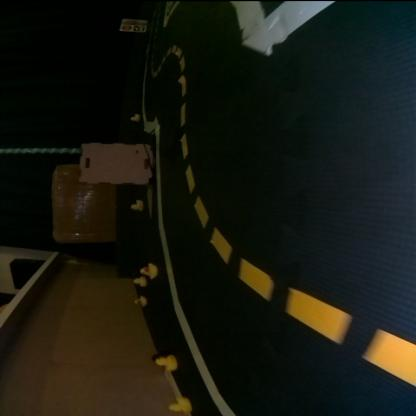Duckie: (168, 397, 192, 412), (155, 354, 177, 370), (139, 262, 157, 278), (130, 200, 142, 210), (134, 296, 146, 306), (132, 276, 144, 286), (130, 113, 139, 122)
QR code: (132, 26, 146, 32)
Stop sign: (119, 24, 132, 30)
